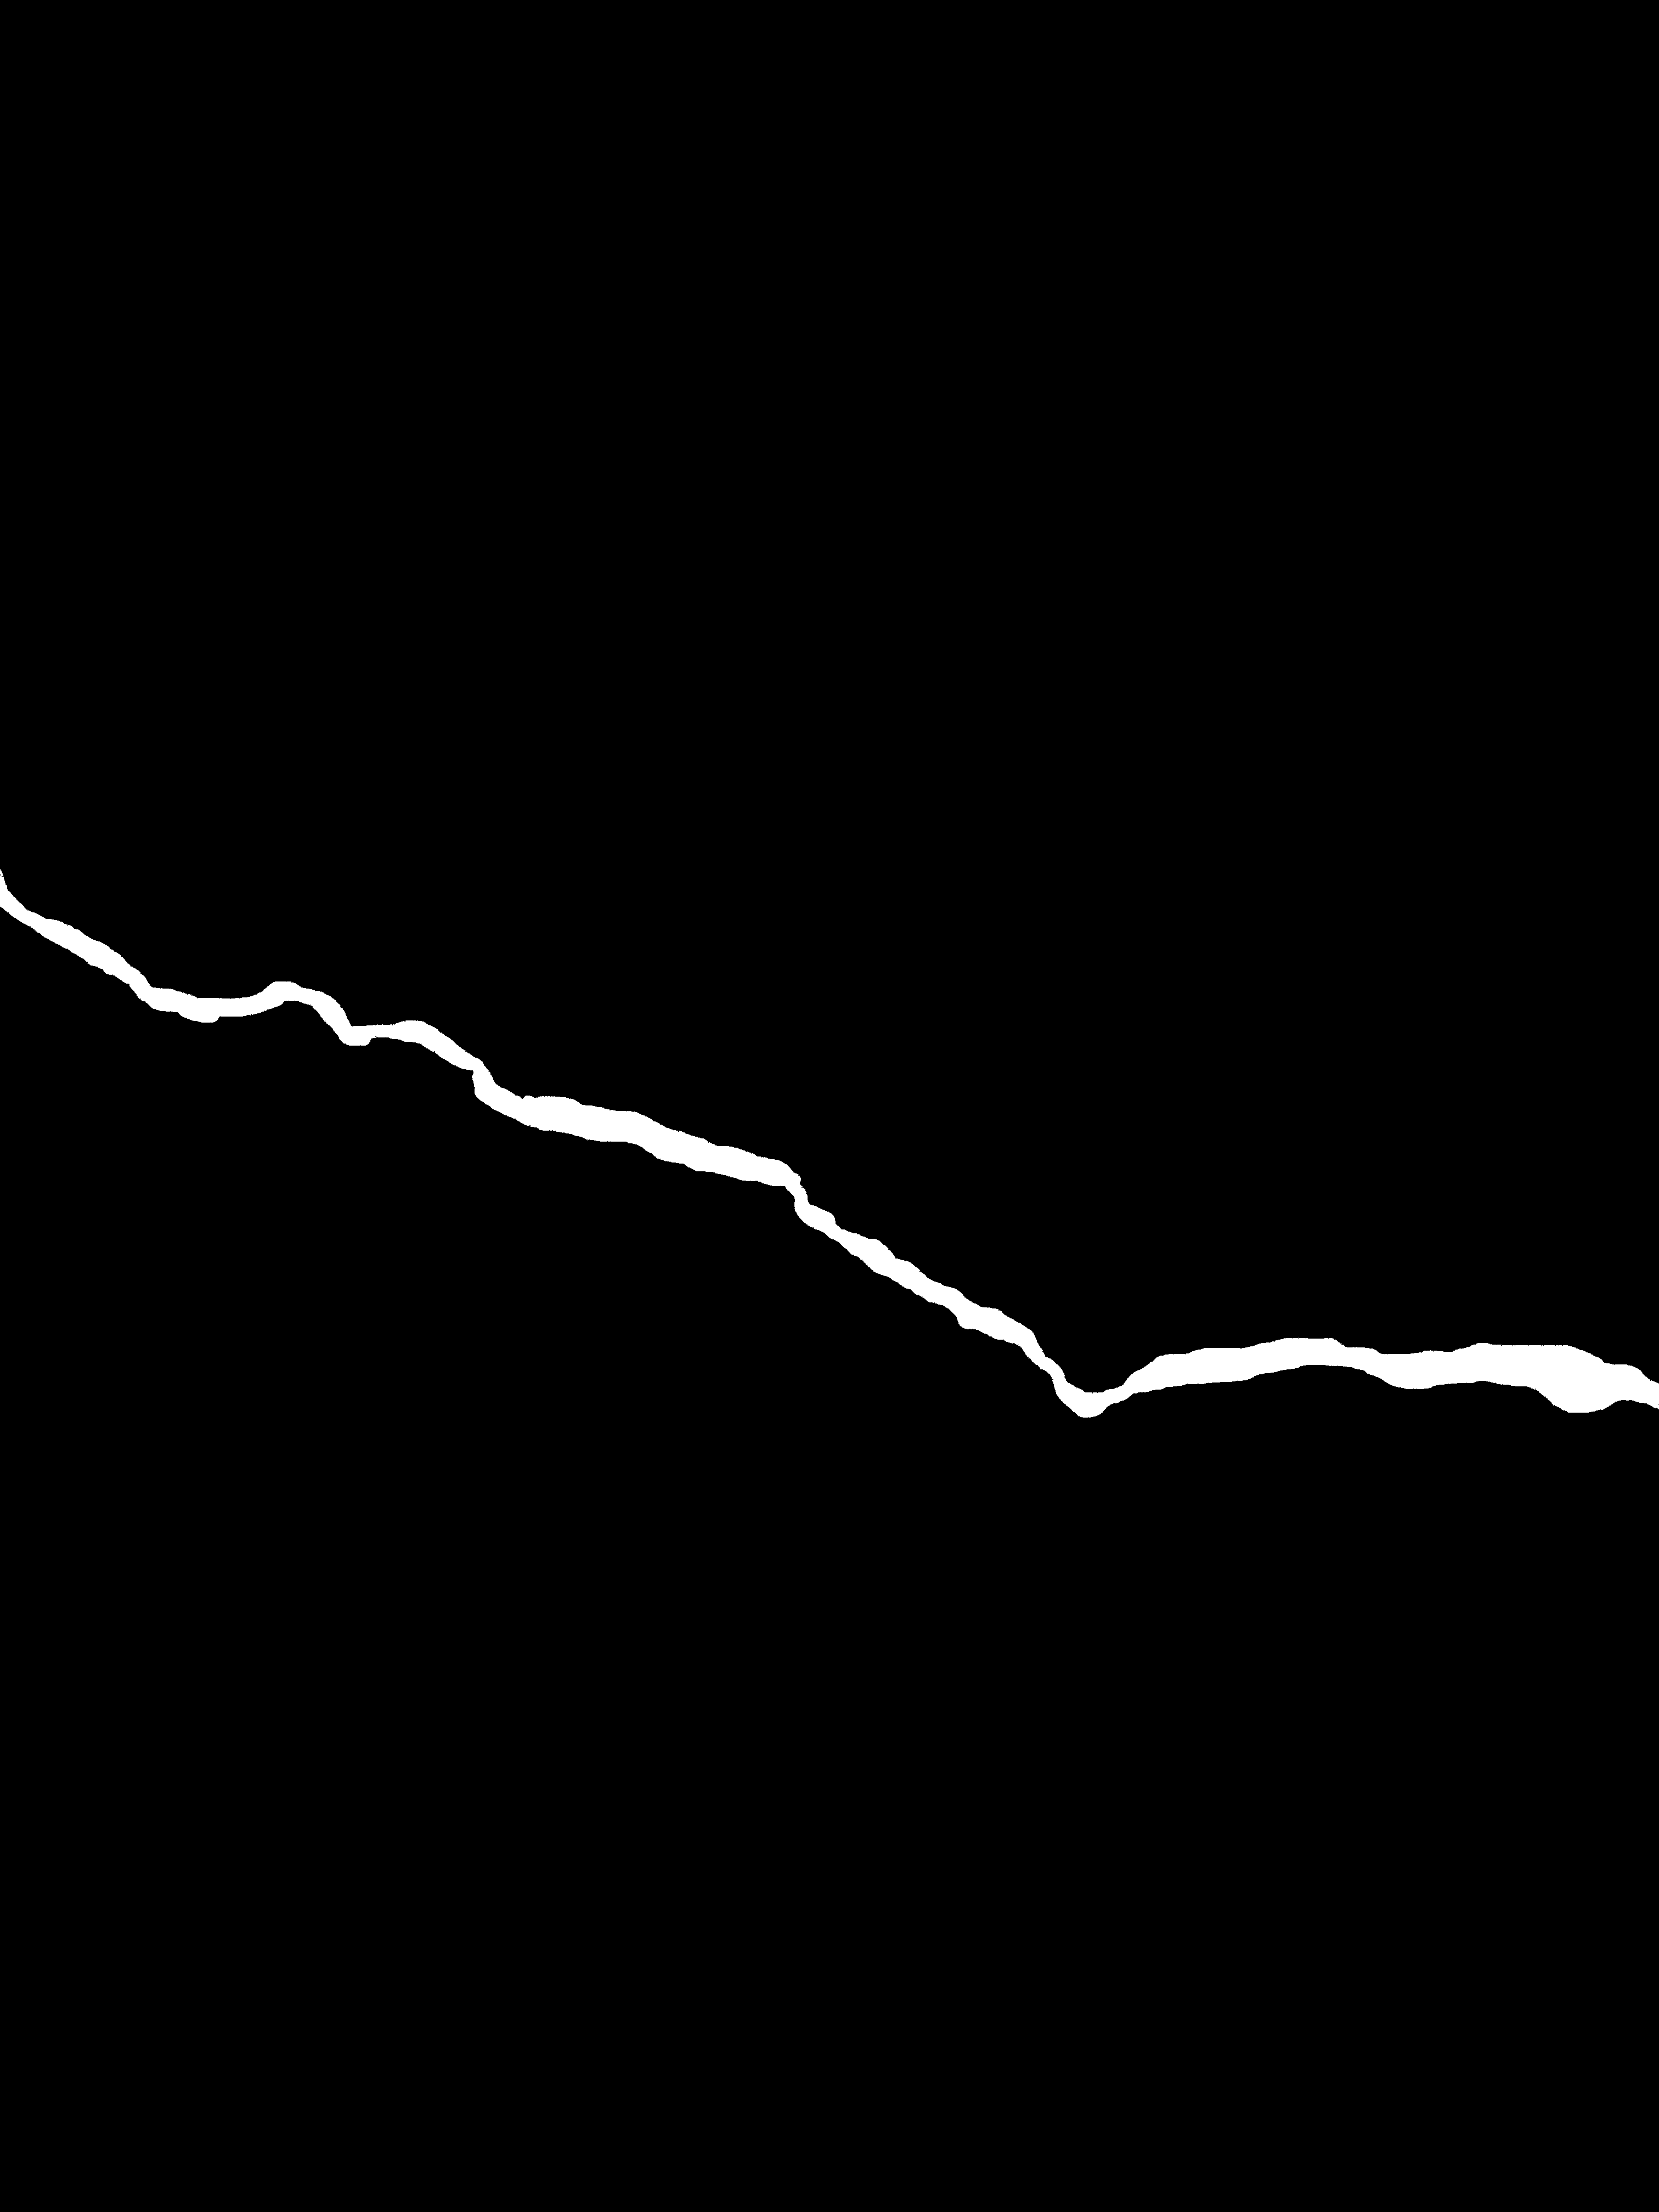Crack: (0, 845, 1659, 1442)
